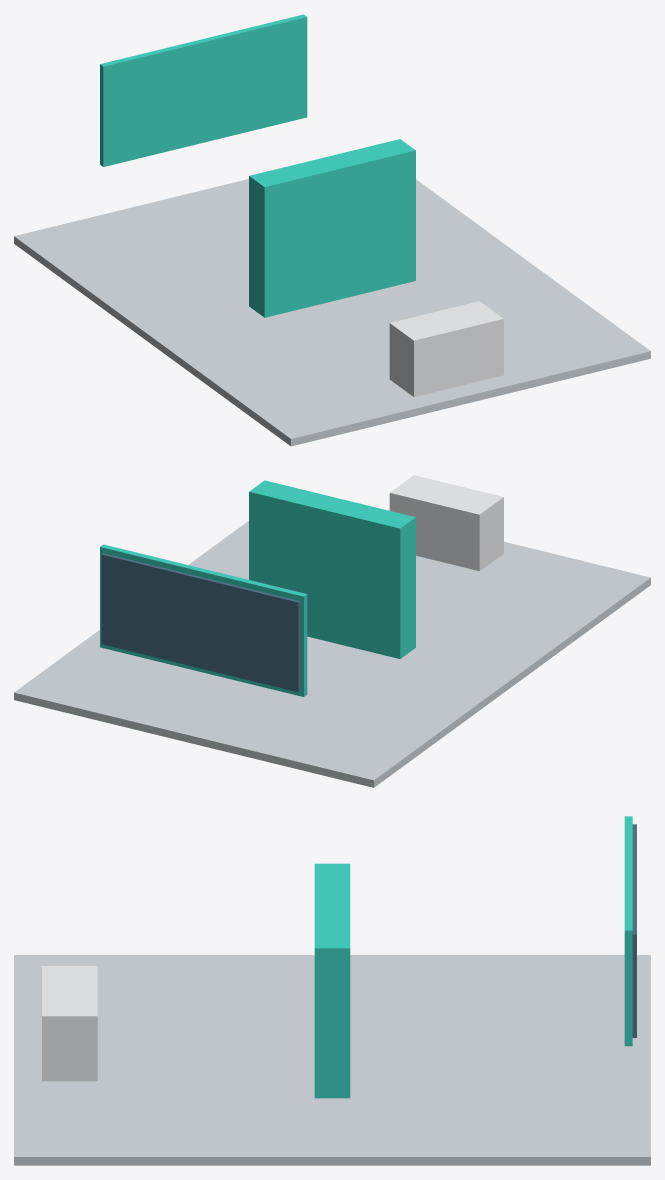
3 views of the same model, one above another, from view 1: azimuth 30°, elevation 25°; view 2: azimuth 150°, elevation 25°; view 3: azimuth 270°, elevation 25° (orthographic). The views are drawn at different scales.
Parts seen in each view (by area): view 1: Exhibition Booth Concept; view 2: Exhibition Booth Concept; view 3: Exhibition Booth Concept.
Part boxes in pixels (x1,y1,x2,y2): Exhibition Booth Concept: [14, 14, 650, 446]; Exhibition Booth Concept: [14, 475, 650, 787]; Exhibition Booth Concept: [14, 816, 650, 1165].
Bounding box in the file's own units: 6 × 2.65 × 8.
